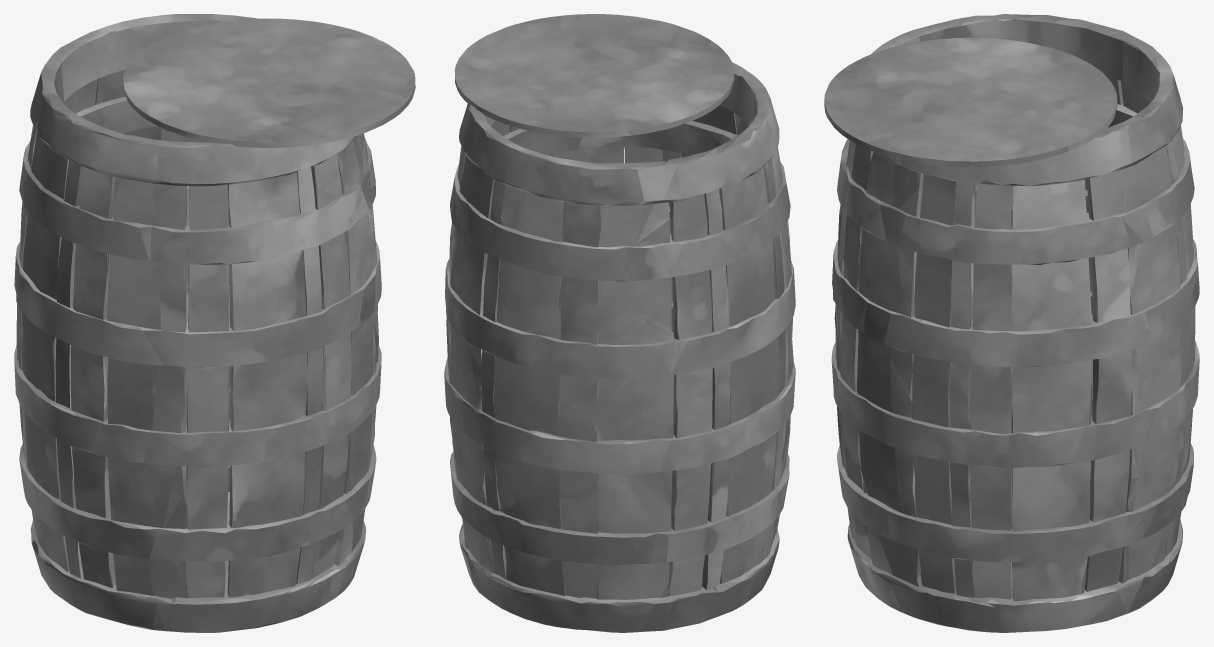
Rendered from SM_Barrel_01b.fbx.
3 renders of one model, left to right at view 1: azimuth 30°, elevation 25°; view 2: azimuth 150°, elevation 25°; view 3: azimuth 270°, elevation 25°, orthographic. The views are drawn at different scales.
Parts seen in each view (by area): view 1: SM_Barrel_01b_LOD0; view 2: SM_Barrel_01b_LOD0; view 3: SM_Barrel_01b_LOD0.
Part boxes in pixels (left/top/right/bottom): SM_Barrel_01b_LOD0: left=14, top=14, right=415, bottom=632; SM_Barrel_01b_LOD0: left=444, top=14, right=795, bottom=632; SM_Barrel_01b_LOD0: left=824, top=14, right=1199, bottom=632.
Bounding box in the file's own units: 80.59 × 78.16 × 113.
